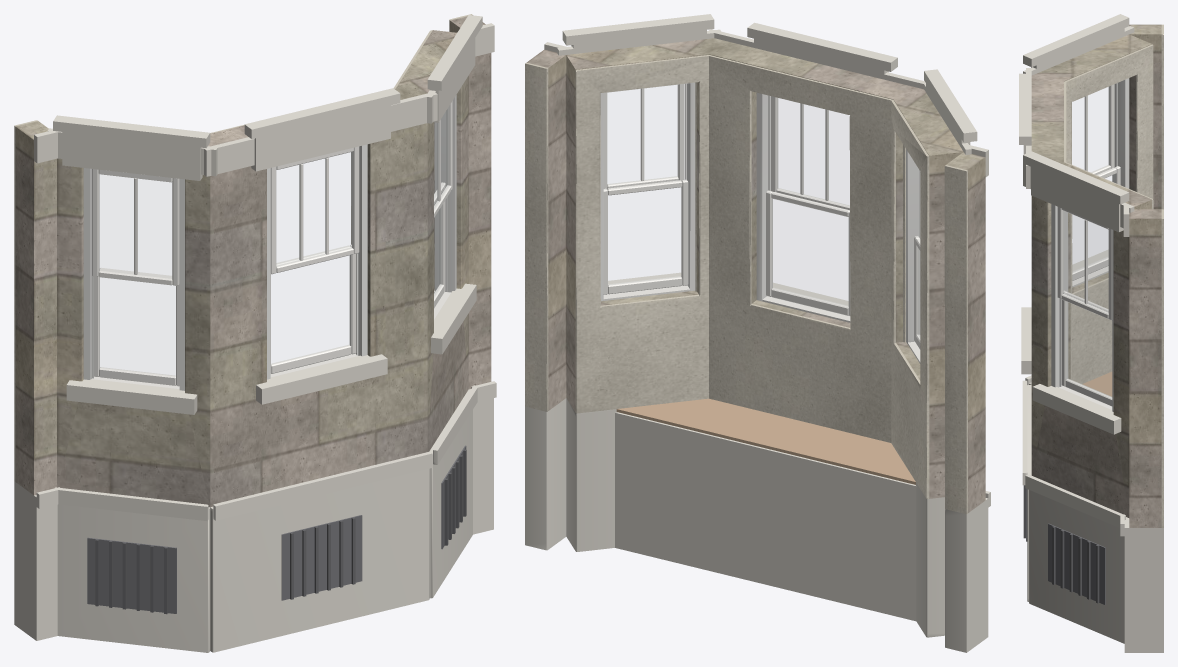
Rendered from bay_b0.glb.
3 views of the same model, side by side, from view 1: azimuth 30°, elevation 25°; view 2: azimuth 150°, elevation 25°; view 3: azimuth 270°, elevation 25° (orthographic). The views are drawn at different scales.
Parts seen in each view (by area): view 1: bay_b0_grey, bay_b0_lime, bay_b0_glass, bay_b0_sash, bay_b0_dark, bay_b0_frame, bay_b0_iron, bay_b0_plaster, bay_b0_trim; view 2: bay_b0_plaster, bay_b0_lime, bay_b0_grey, bay_b0_glass, bay_b0_sash, bay_b0_floor, bay_b0_frame, bay_b0_trim; view 3: bay_b0_grey, bay_b0_lime, bay_b0_plaster, bay_b0_glass, bay_b0_sash, bay_b0_frame, bay_b0_dark, bay_b0_iron, bay_b0_trim, bay_b0_floor.
Boxes of the visible parts, bbox=[...] form: bay_b0_grey: bbox=[15, 15, 491, 507]; bay_b0_lime: bbox=[14, 15, 496, 652]; bay_b0_glass: bbox=[99, 108, 448, 375]; bay_b0_sash: bbox=[92, 100, 452, 386]; bay_b0_dark: bbox=[87, 445, 466, 613]; bay_b0_frame: bbox=[83, 95, 456, 390]; bay_b0_iron: bbox=[95, 449, 466, 614]; bay_b0_plaster: bbox=[14, 14, 472, 481]; bay_b0_trim: bbox=[92, 290, 450, 388]; bay_b0_plaster: bbox=[525, 55, 967, 514]; bay_b0_lime: bbox=[525, 14, 990, 652]; bay_b0_grey: bbox=[527, 38, 985, 512]; bay_b0_glass: bbox=[608, 85, 919, 336]; bay_b0_sash: bbox=[603, 84, 920, 349]; bay_b0_floor: bbox=[616, 398, 915, 484]; bay_b0_frame: bbox=[600, 82, 920, 343]; bay_b0_trim: bbox=[603, 285, 920, 363]; bay_b0_grey: bbox=[1031, 24, 1161, 527]; bay_b0_lime: bbox=[1019, 14, 1163, 652]; bay_b0_plaster: bbox=[1064, 24, 1163, 527]; bay_b0_glass: bbox=[1063, 87, 1115, 397]; bay_b0_sash: bbox=[1057, 84, 1120, 406]; bay_b0_frame: bbox=[1051, 78, 1129, 411]; bay_b0_dark: bbox=[1026, 488, 1105, 604]; bay_b0_iron: bbox=[1023, 485, 1099, 603]; bay_b0_trim: bbox=[1059, 266, 1112, 409]; bay_b0_floor: bbox=[1082, 371, 1112, 396].
Size of the model in its own units: 4 by 4.33 by 1.26.
Materials: 10 (2 with a texture image).
